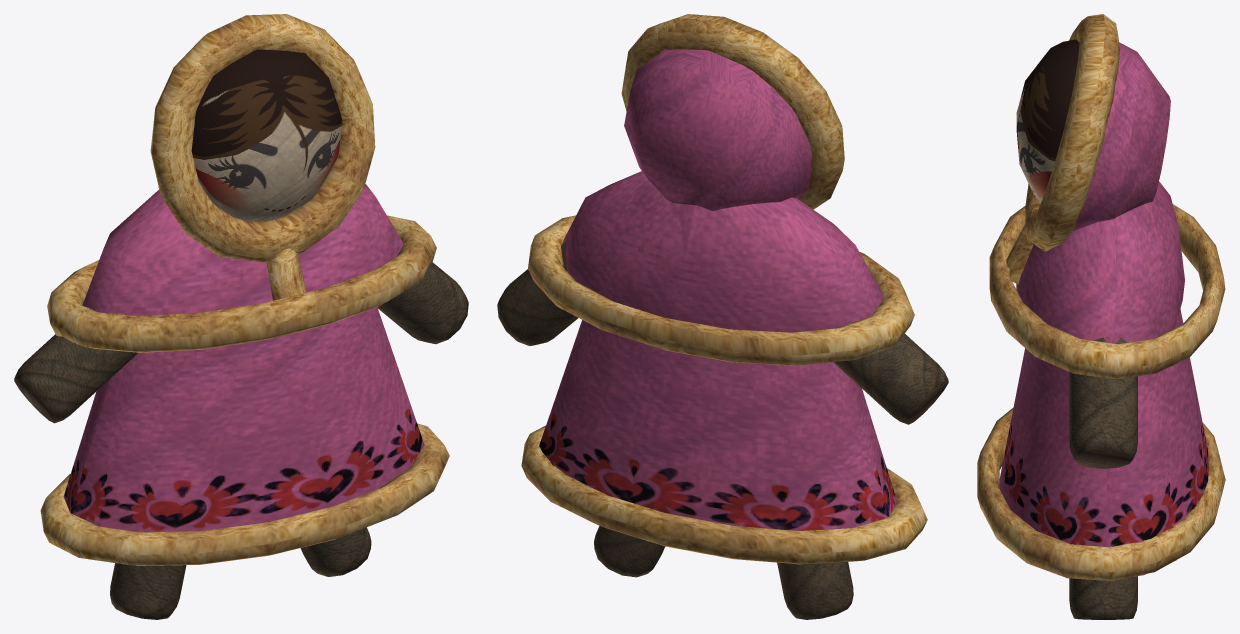
Rendered from doll.FBX.
The picture shows the model from 3 angles, left to right: view 1: azimuth 30°, elevation 25°; view 2: azimuth 150°, elevation 25°; view 3: azimuth 270°, elevation 25°; orthographic projection. The views are drawn at different scales.
Visible parts, largest first — view 1: Cylinder001; view 2: Cylinder001; view 3: Cylinder001.
Part boxes in pixels (<box>): Cylinder001: <box>14,14,468,619</box>; Cylinder001: <box>497,14,948,619</box>; Cylinder001: <box>977,14,1225,619</box>.
Bounding box in the file's own units: 111 × 138 × 55.68.
1 material, 1 textured.
